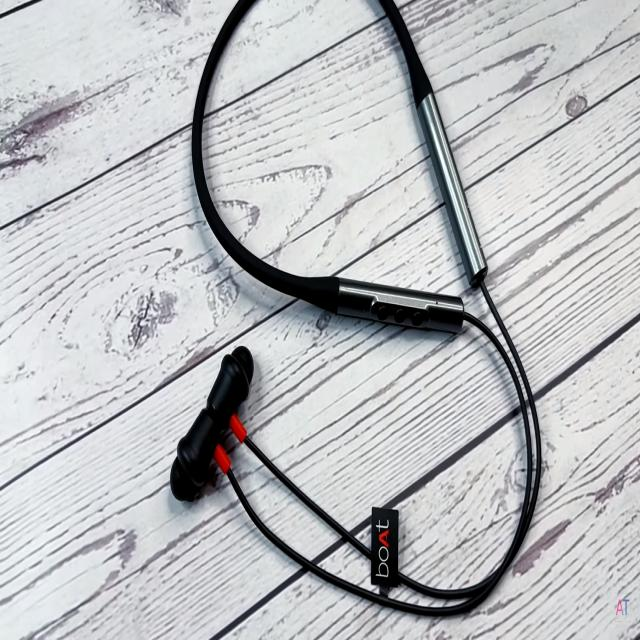Neckband: (169, 0, 543, 618)
